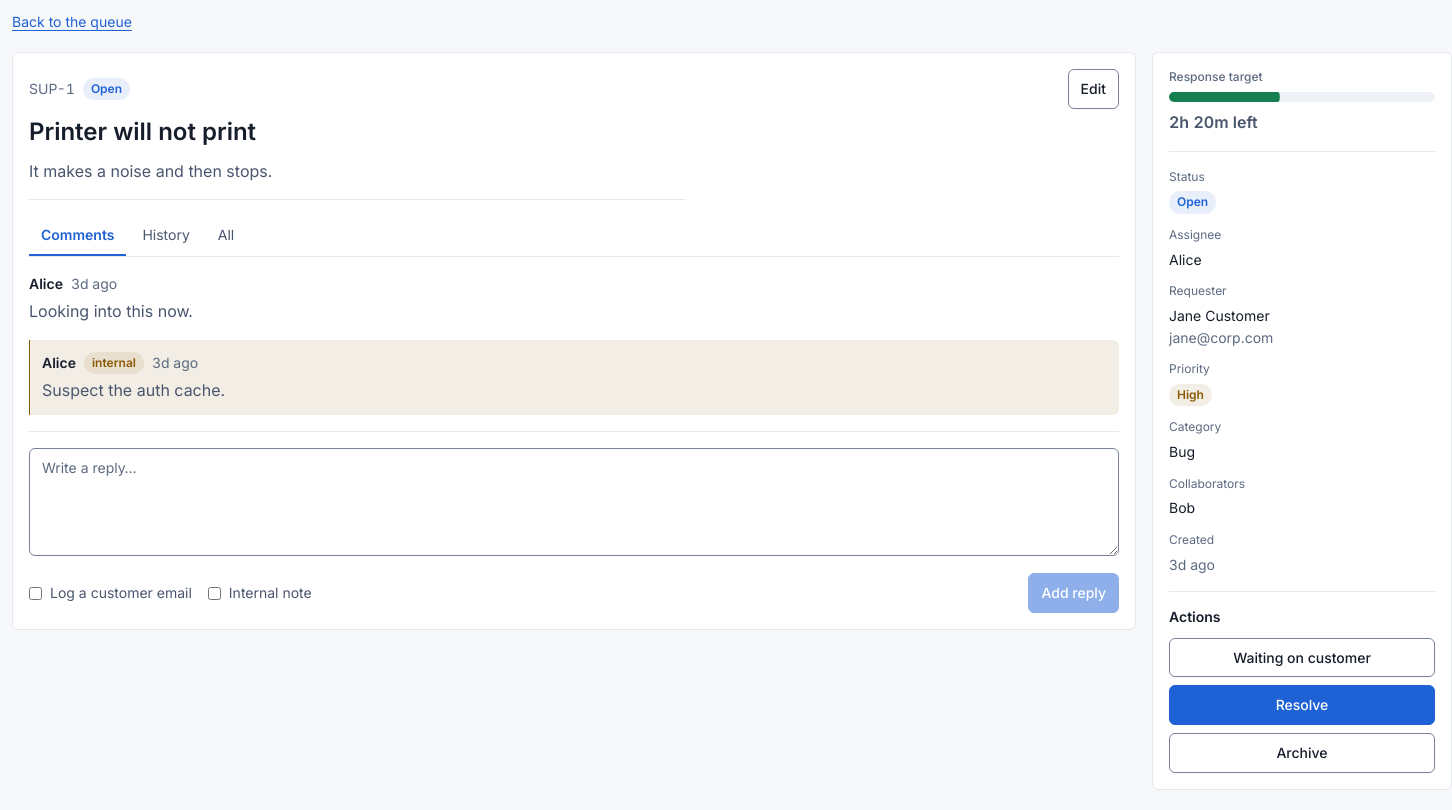
TicketDetailPage › shows structural history under History, with names not ids
The width and height of the screenshot is (1452, 810).
Click the tab "History" at (166,236), box [130, 216, 202, 256]
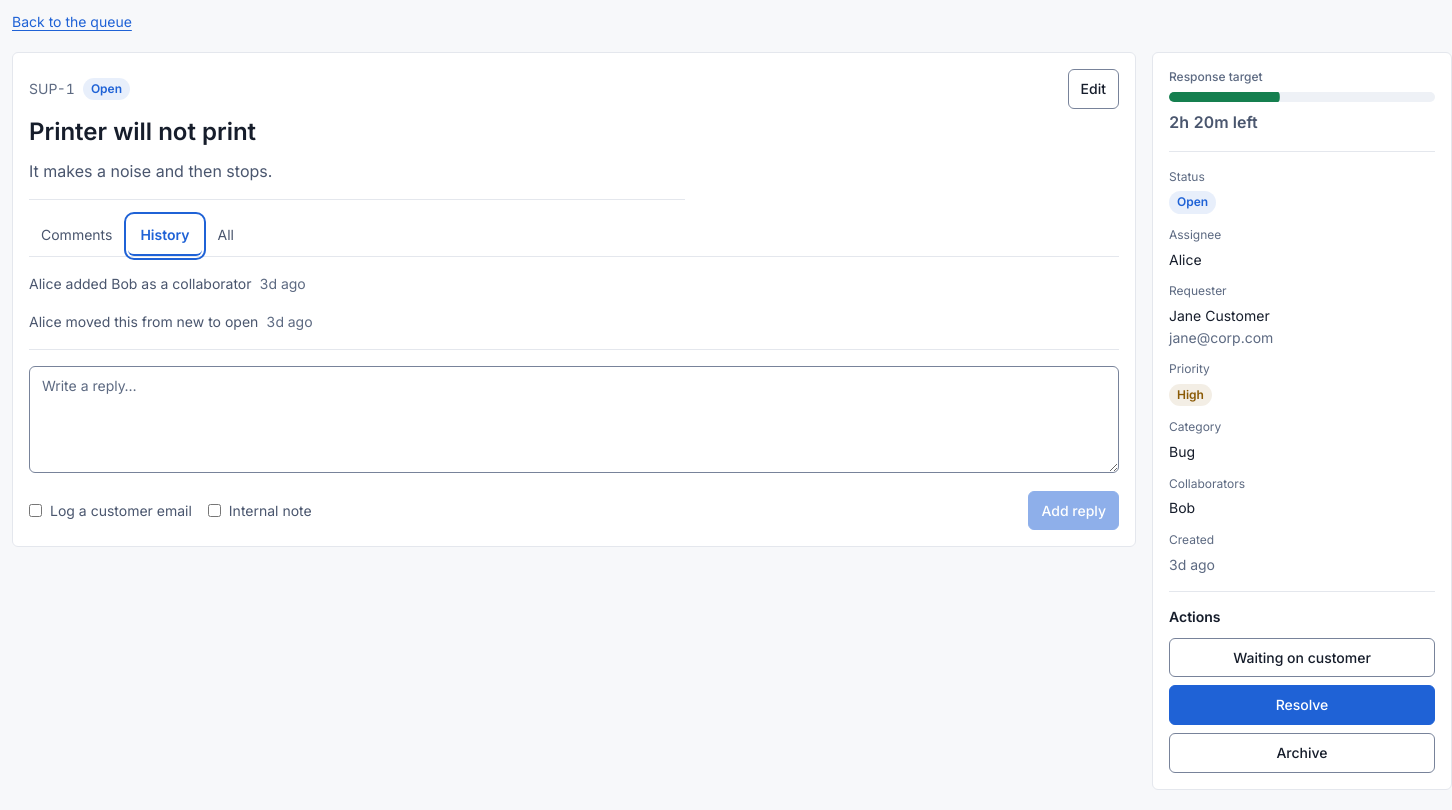
expect the text "Alice added Bob as a collaborator" is shown: met, box [29, 273, 252, 295]
expect the text "Alice moved this from new to open" is shown: met, box [29, 311, 258, 333]
expect the text "Looking into this now." is gone: met
